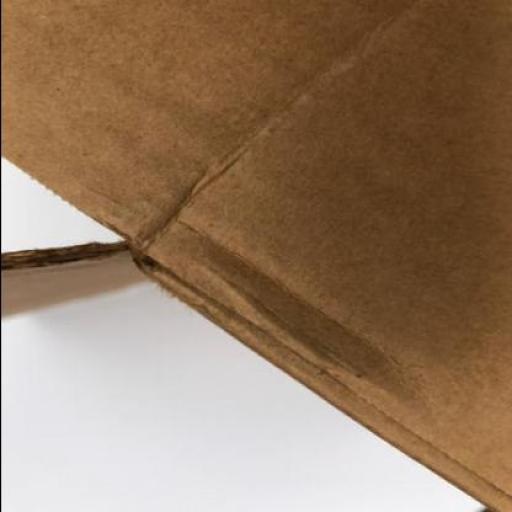cardboard: (1, 1, 511, 511), (135, 1, 511, 511), (1, 0, 407, 274)
